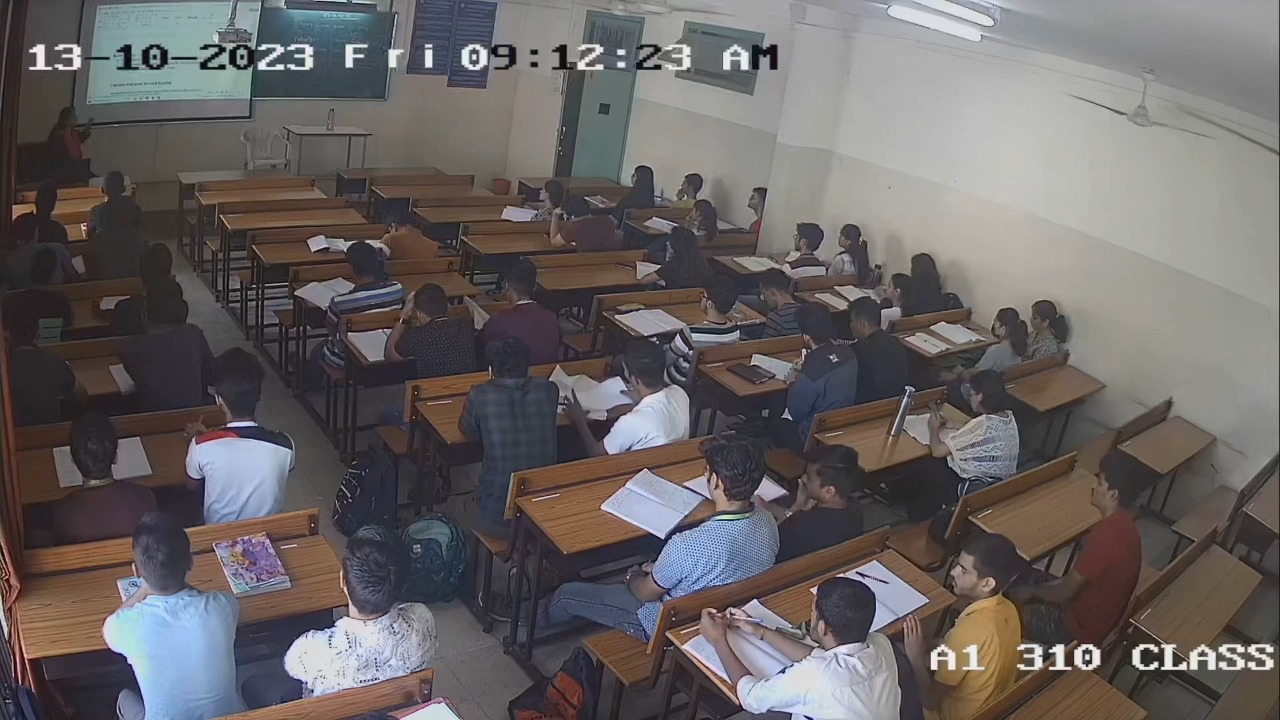cell-phones: (925, 398, 947, 427), (751, 362, 777, 382), (614, 300, 648, 314), (614, 260, 634, 272)
person: (929, 367, 1022, 471), (784, 300, 858, 405), (644, 226, 714, 289), (682, 275, 742, 343)
